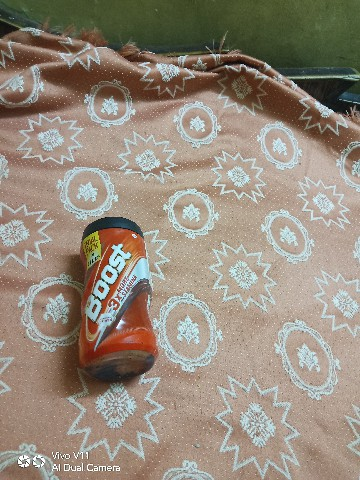boost small: (70, 208, 169, 388)
